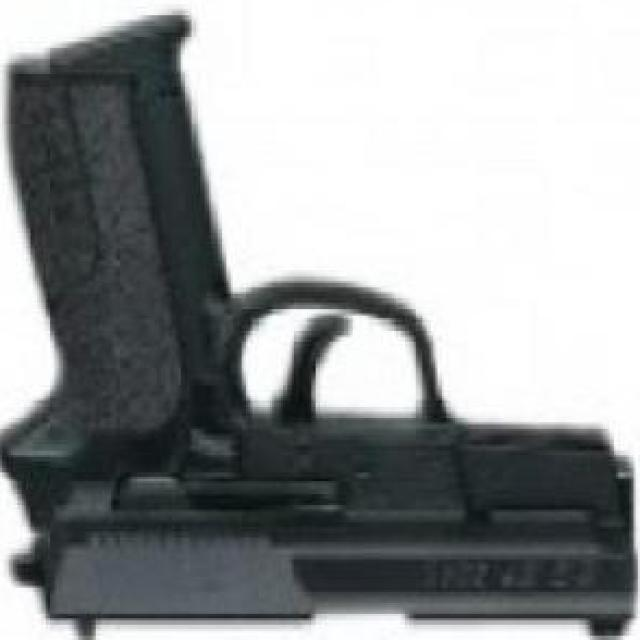pistol: (1, 14, 634, 640)
